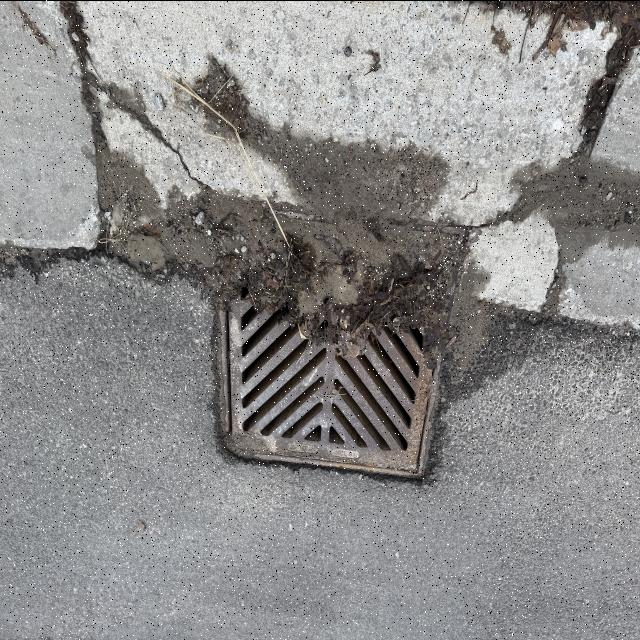Manhole: (216, 236, 444, 480)
